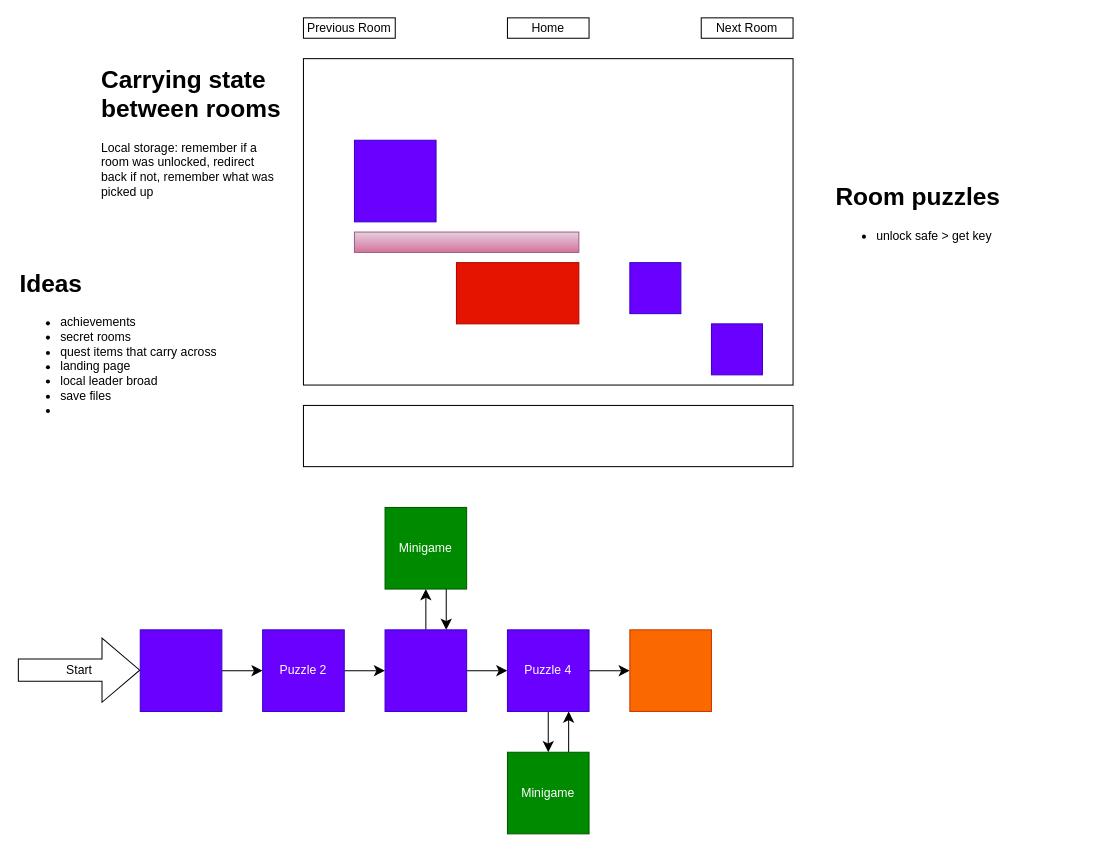
This 1095x852 diagram has some shape labels left out. Each missing label, with the box of its shape:
End: (629, 629, 711, 711)
Hotbar? Can reset on each room: (302, 404, 793, 467)
Puzzle 1: (139, 629, 222, 711)
Puzzle 3: (384, 629, 467, 711)
